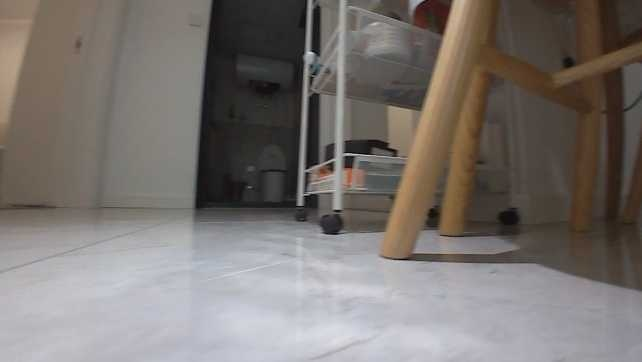door_sill: (195, 200, 299, 210)
toilet: (255, 140, 289, 202)
